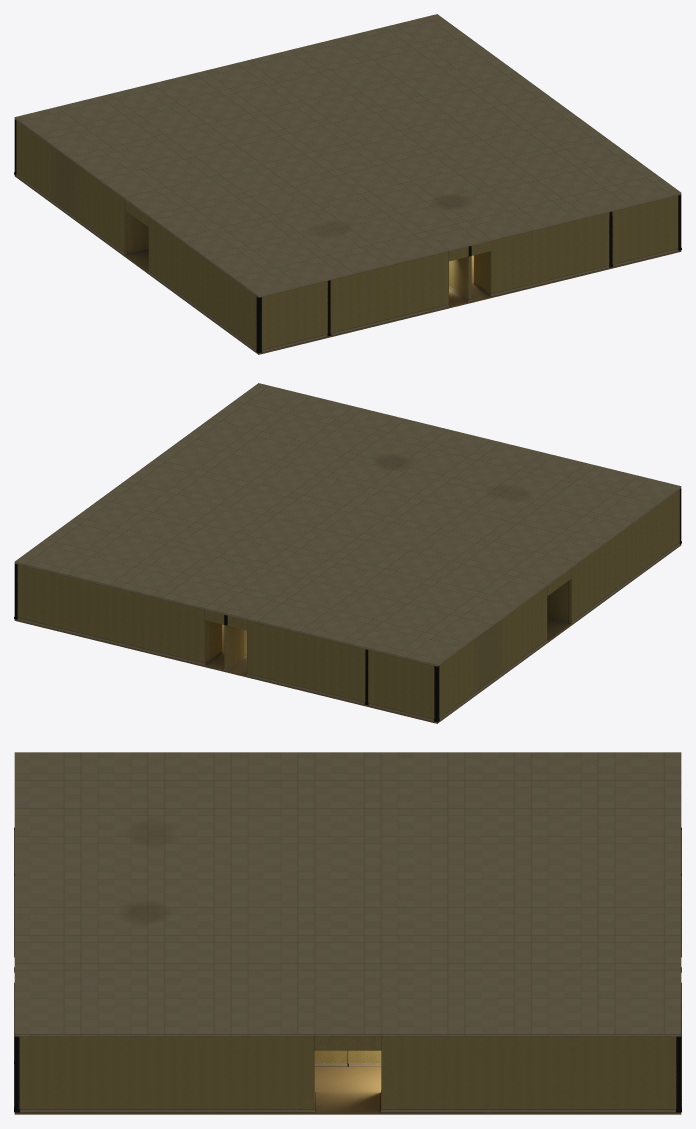
3 views of the same model, one above another, from view 1: azimuth 30°, elevation 25°; view 2: azimuth 150°, elevation 25°; view 3: azimuth 270°, elevation 25° (orthographic). The views are drawn at different scales.
Visible parts, largest first — view 1: Ceiling, Walls, Floor, Pillars; view 2: Ceiling, Walls, Floor, Pillars; view 3: Ceiling, Walls, Floor, Pillars.
Boxes of the visible parts, <box> form: Ceiling: <box>14,14,681,297</box>; Walls: <box>14,119,681,350</box>; Floor: <box>14,175,681,354</box>; Pillars: <box>14,172,681,353</box>; Ceiling: <box>14,383,681,666</box>; Walls: <box>14,488,681,719</box>; Floor: <box>14,544,681,723</box>; Pillars: <box>14,541,681,722</box>; Ceiling: <box>14,752,681,1036</box>; Walls: <box>14,1036,681,1109</box>; Floor: <box>14,1066,681,1114</box>; Pillars: <box>14,827,681,1112</box>.
Size of what is drawn, in the model's own units: 24.04 by 3.2 by 24.04.
Materials: 7 (5 with a texture image).
